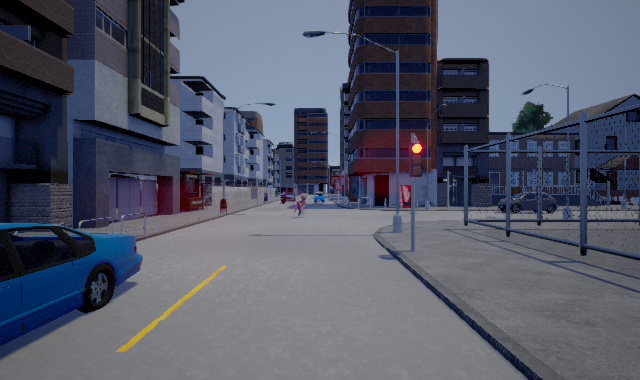bike: (291, 195, 309, 217)
traffic_light: (409, 136, 423, 183)
vehicle: (1, 223, 143, 346), (494, 189, 557, 213)
